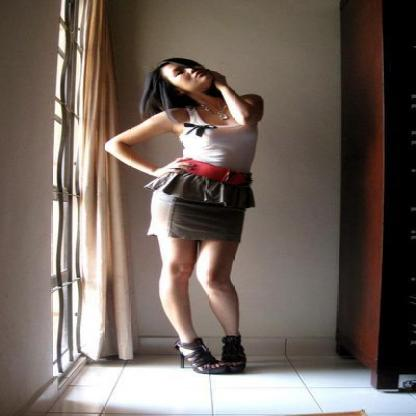shirt: (179, 112, 265, 169)
shoe: (162, 324, 245, 374)
skirt: (148, 168, 254, 257)
